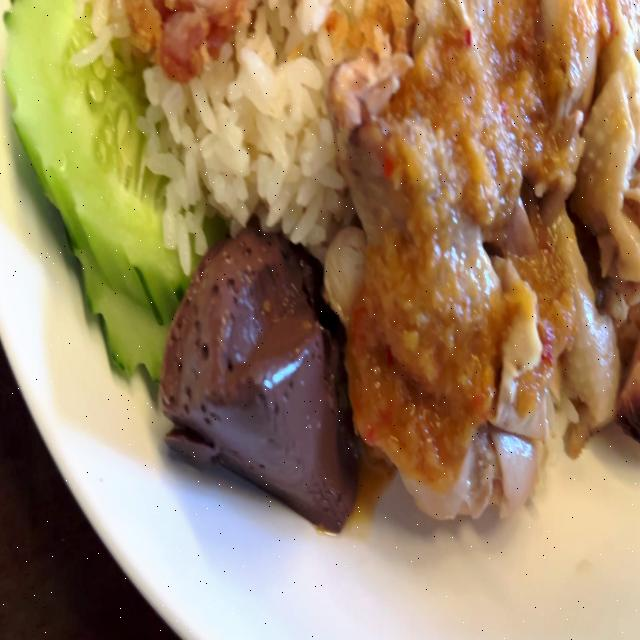boiled_chicken: (332, 0, 640, 504)
boiled_chicken_blood_jelly: (166, 222, 356, 520)
chicken_rice: (0, 0, 640, 516)
cucumber: (0, 0, 207, 387)
fried_chicken: (130, 0, 243, 85)
